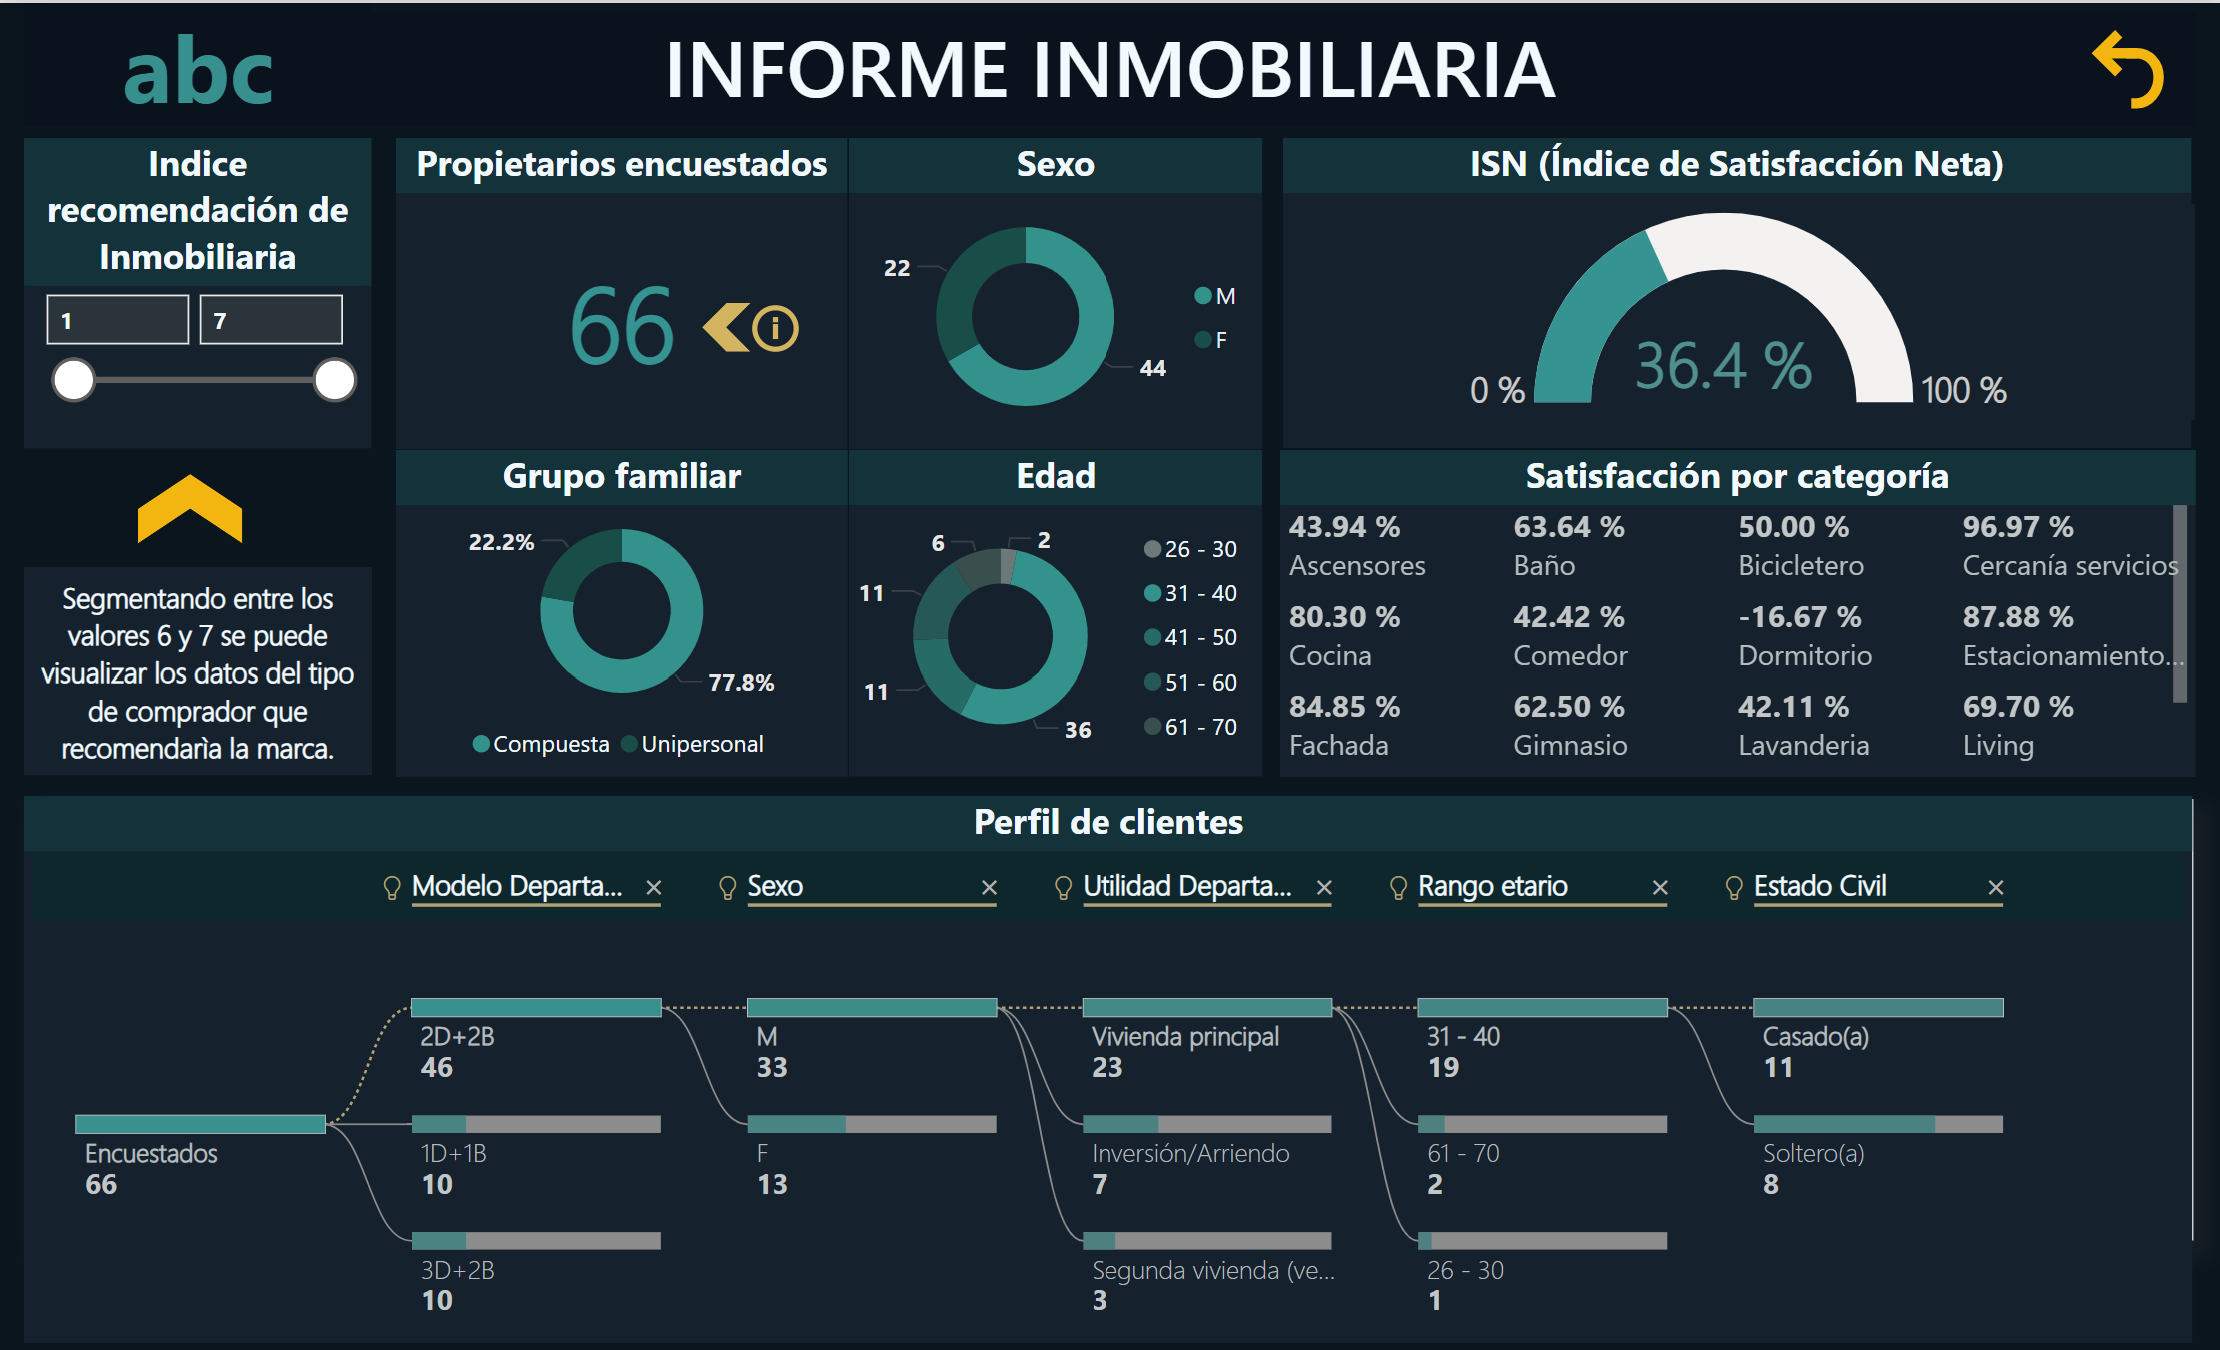

The dashboard page shown, as its layout file describes it:
{"tool":"powerbi","page":{"name":"Informe","canvas":[1280,782],"ordinal":0},"visuals":[{"type":"shape","title":"ISN (Índice de Satisfacción Neta)","box":[738,78,522,178],"z":0},{"type":"textbox","box":[14.2,456.4,1247.2,253.7],"z":1000},{"type":"textbox","title":"INFORME INMOBILIARIA","box":[14.2,5.7,1248.7,65.2],"z":2000},{"type":"gauge","title":"ISN (Indice de Satisfacción Neta)","fields":{"Y":["Medidas.ISNgeneral"]},"box":[738,116,524,124],"z":3000},{"type":"card","title":"Propietarios encuestados","fields":{"Values":["Medidas.propietariosEncuestados"]},"box":[228.2,78,259.4,178.6],"z":4000},{"type":"slicer","title":"Indice recomendación de Inmobiliaria","fields":{"Values":["Respuestas.recomendariaInmobiliaria"]},"box":[14.1,77.7,199.6,178.4],"z":5000},{"type":"donutChart","title":"Grupo familiar","fields":{"Y":["Medidas.COUNTgrupoFamiliar"],"Category":["GrupoFamiliar.grupoFamiliar"]},"box":[227.8,256.1,259.6,187.2],"z":6000},{"type":"donutChart","title":"Edad","fields":{"Category":["Respuestas.rangoEdad"],"Y":["Medidas.COUNTrangoEdad"]},"box":[487.6,256.5,238.1,187.1],"z":7000},{"type":"donutChart","title":"Sexo","fields":{"Y":["Medidas.COUNTsexo"],"Category":["Respuestas.sexo"]},"box":[487.6,78,238.1,178.6],"z":8000},{"type":"decompositionTreeVisual","title":"Perfil de clientes","fields":{"Analyze":["Medidas.propietariosEncuestados"],"ExplainBy":["Respuestas.modeloDepartamento","Respuestas.sexo","Respuestas.utilidadDepartamento","Respuestas.rangoEdad","Respuestas.infoPersonal_EstadoCivil"]},"box":[14.1,455.6,1246.8,314.3],"z":9000},{"type":"shape","title":"Segmentando entre los valores 5 y 7 se puede visualizar el tipo de comprador que recomendarìa la marca.","box":[14.2,324.6,199.8,119.1],"z":10000},{"type":"multiRowCard","title":"Satisfacción por categoría","fields":{"Values":["Medidas.ISNascensores","Medidas.ISNbaño","Medidas.ISNbicicletero","Medidas.ISNcercaniaservicios","Medidas.ISNcocina","Medidas.ISNcomedor","Medidas.ISNdormitorio","Medidas.ISNestacionamientovisitas","Medidas.ISNfachada","Medidas.ISNgimnasio","Medidas.ISNlavanderia","Medidas.ISNliving"]},"box":[736.4,256.1,526.3,187.2],"z":11000},{"type":"textbox","title":"abc","box":[14.3,0,200.3,69.9],"z":12000},{"type":"shape","box":[80,271,60,40],"z":13000},{"type":"actionButton","box":[1196.8,11.1,62,55],"z":14000},{"type":"actionButton","box":[430,168,42,36],"z":15000},{"type":"shape","box":[404,172,28,28],"z":16000}]}

Visuals, with their boxes in screenshot pixels (x1, y1, x2, y2), scaled from the page's 1280x782 canvas onto the 2220x1350 screenshot:
"ISN (Índice de Satisfacción Neta)" shape: x1=1280 y1=135 x2=2185 y2=442
textbox: x1=25 y1=788 x2=2188 y2=1226
"INFORME INMOBILIARIA" textbox: x1=25 y1=10 x2=2190 y2=122
"ISN (Indice de Satisfacción Neta)" gauge: x1=1280 y1=200 x2=2189 y2=414
"Propietarios encuestados" card: x1=396 y1=135 x2=846 y2=443
"Indice recomendación de Inmobiliaria" slicer: x1=24 y1=134 x2=371 y2=442
"Grupo familiar" donutChart: x1=395 y1=442 x2=845 y2=765
"Edad" donutChart: x1=846 y1=443 x2=1259 y2=766
"Sexo" donutChart: x1=846 y1=135 x2=1259 y2=443
"Perfil de clientes" decompositionTreeVisual: x1=24 y1=787 x2=2187 y2=1329
"Segmentando entre los valores 5 y 7 se puede visualizar el tipo de comprador que recomendarìa la marca." shape: x1=25 y1=560 x2=371 y2=766
"Satisfacción por categoría" multiRowCard: x1=1277 y1=442 x2=2190 y2=765
"abc" textbox: x1=25 y1=0 x2=372 y2=121
shape: x1=139 y1=468 x2=243 y2=537
actionButton: x1=2076 y1=19 x2=2183 y2=114
actionButton: x1=746 y1=290 x2=819 y2=352
shape: x1=701 y1=297 x2=749 y2=345
